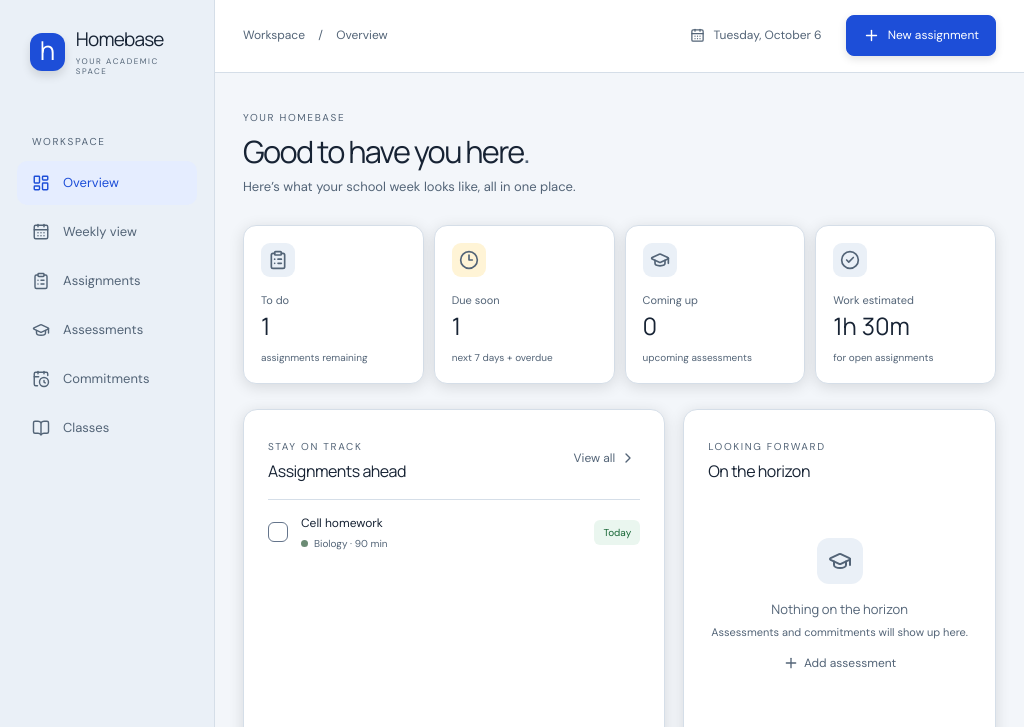
Test case: invalid Start time=24:00 is readable and writes nothing
The width and height of the screenshot is (1024, 727).
Click the button "Weekly view" at (107, 232), box [17, 210, 197, 254]
(page scrolled)
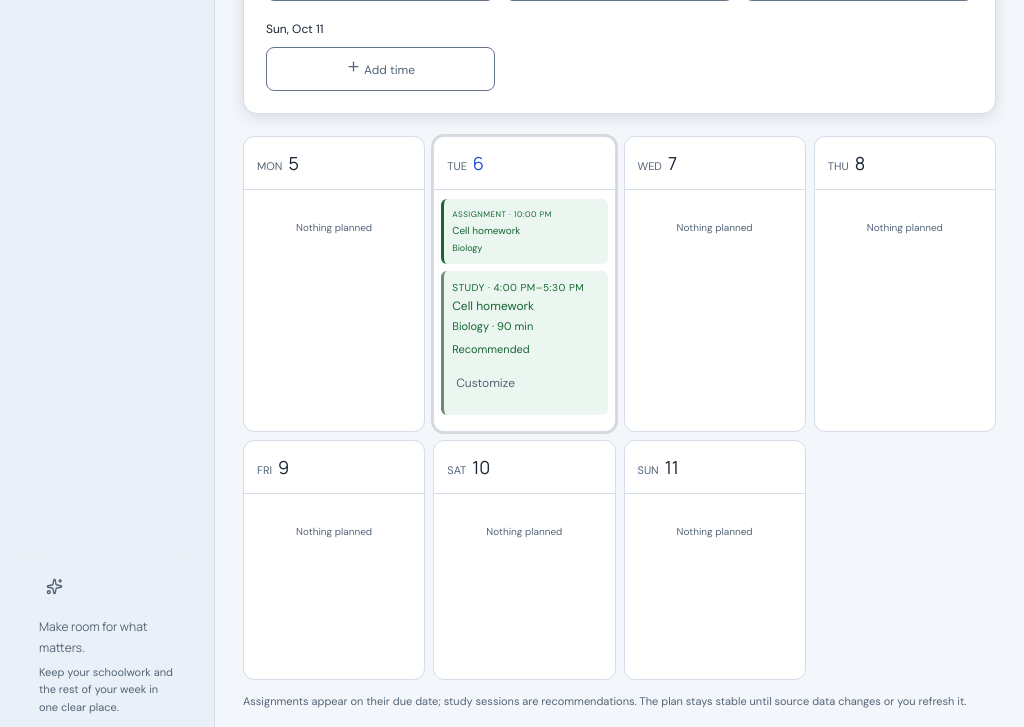
Click the button with aria-label "Customize study:" at (486, 382), box [452, 360, 519, 404]
(page scrolled)
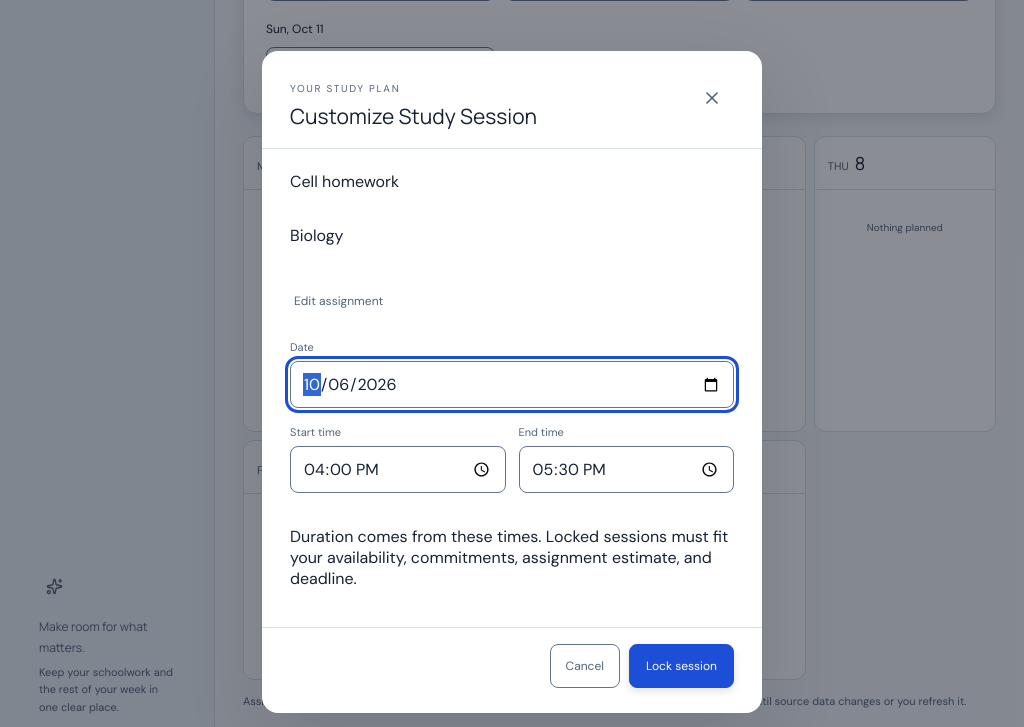
Replace the text in the time field labelled "Start time" with "24:00" at (398, 470), box [290, 446, 506, 493]
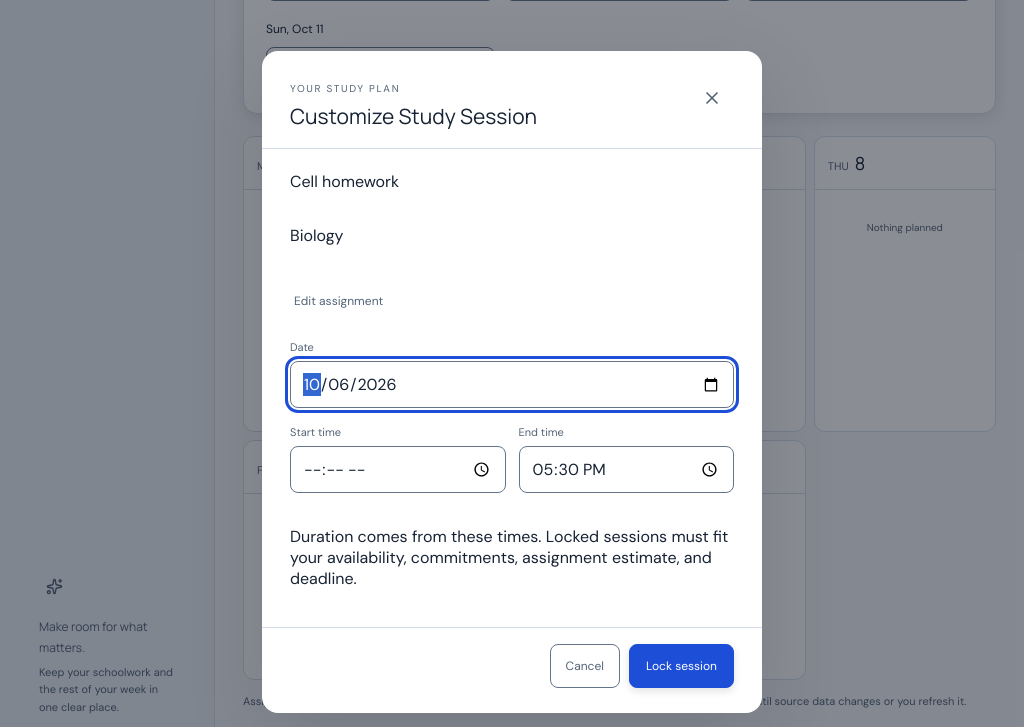
Submit the form, box [262, 149, 762, 713]
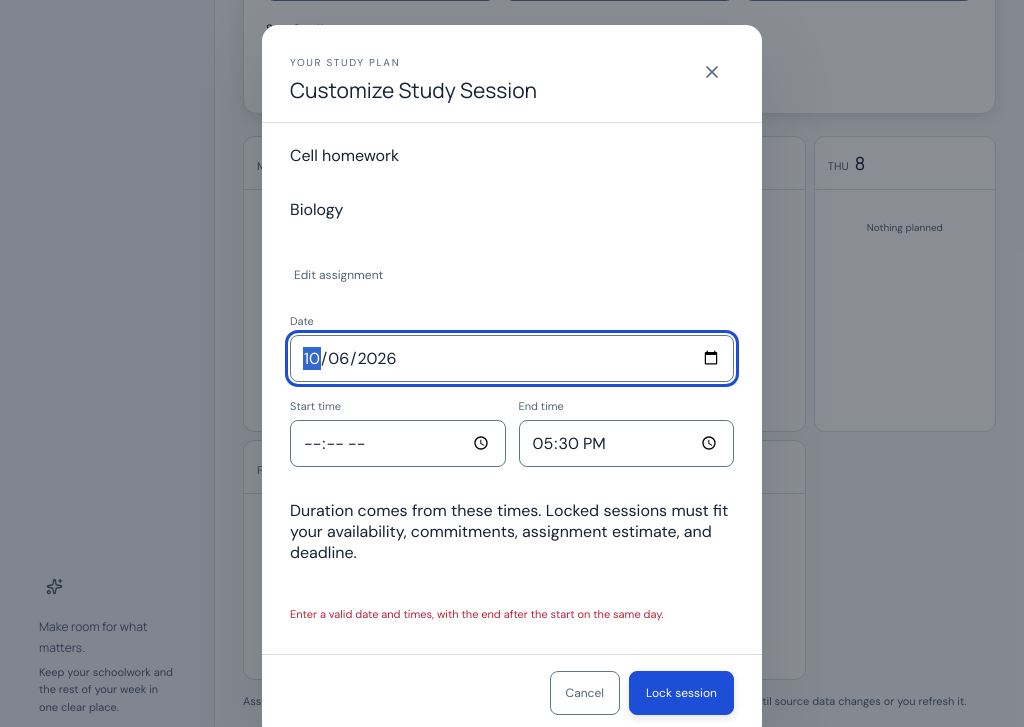
Result: the message shows "valid date and times" at [290, 606, 664, 620]
